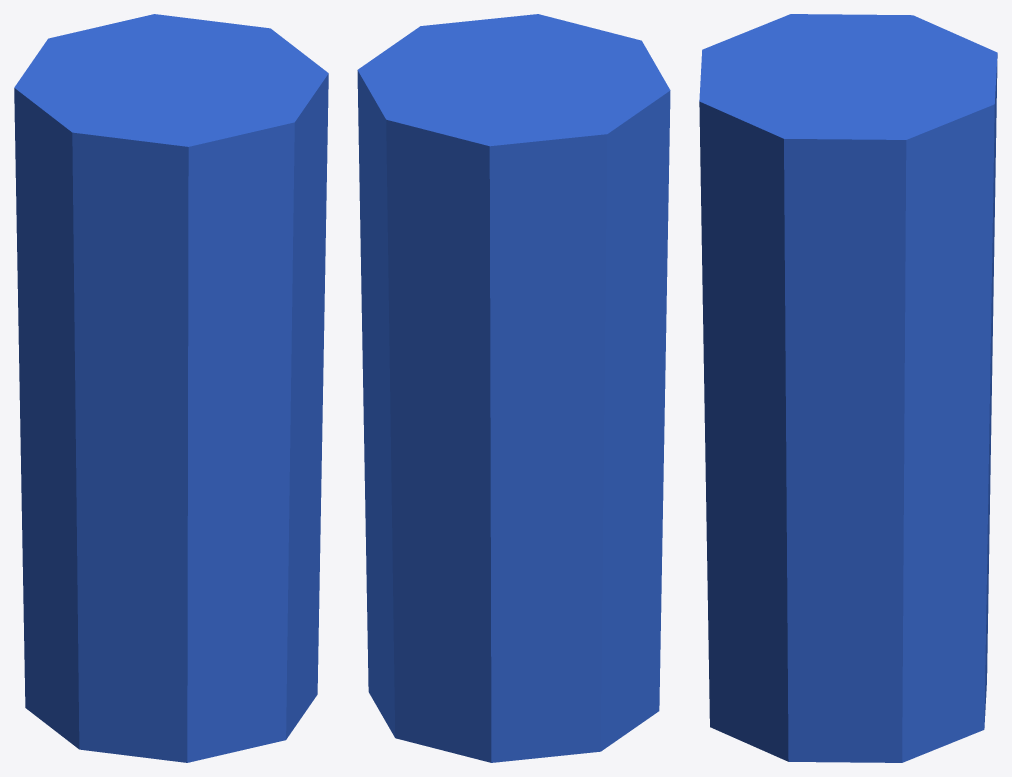
The model's file is Collision_Chalice.fbx.
3 renders of one model, left to right at view 1: azimuth 30°, elevation 25°; view 2: azimuth 150°, elevation 25°; view 3: azimuth 270°, elevation 25°, orthographic.
Visible parts, largest first — view 1: UCX_Chalice_1; view 2: UCX_Chalice_1; view 3: UCX_Chalice_1.
Boxes of the visible parts, x1,y1,x2,y2 form: UCX_Chalice_1: (14, 14, 328, 762); UCX_Chalice_1: (357, 14, 670, 762); UCX_Chalice_1: (699, 14, 997, 762).
Bounding box in the file's own units: 11.17 × 25.94 × 11.17.
